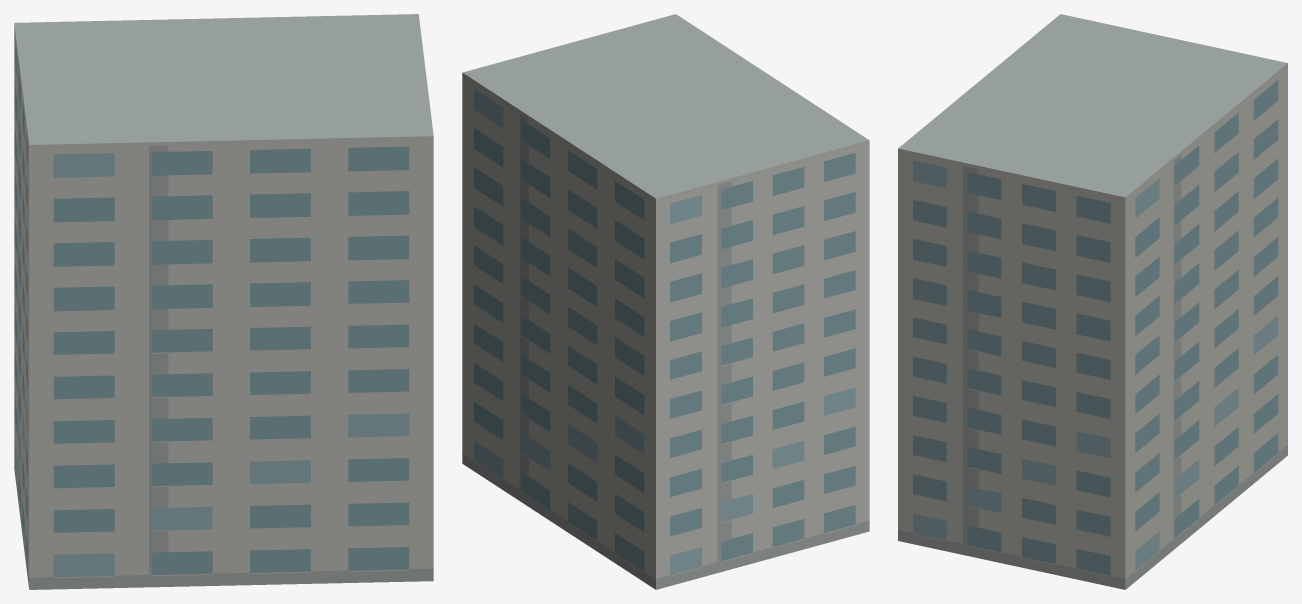
The model's file is residential-d631af2b-134e-4d12-8bc9-8bc850ce7481.glb.
3 views of the same model, side by side, from view 1: azimuth 30°, elevation 25°; view 2: azimuth 150°, elevation 25°; view 3: azimuth 270°, elevation 25° (orthographic). The views are drawn at different scales.
Parts seen in each view (by area): view 1: residential-d631af2b-134e-4d12-8bc9-8bc850ce7481.tmp; view 2: residential-d631af2b-134e-4d12-8bc9-8bc850ce7481.tmp; view 3: residential-d631af2b-134e-4d12-8bc9-8bc850ce7481.tmp.
Part boxes in pixels (x1=…): residential-d631af2b-134e-4d12-8bc9-8bc850ce7481.tmp: x1=14, y1=14, x2=433, y2=589; residential-d631af2b-134e-4d12-8bc9-8bc850ce7481.tmp: x1=462, y1=14, x2=869, y2=589; residential-d631af2b-134e-4d12-8bc9-8bc850ce7481.tmp: x1=898, y1=14, x2=1287, y2=589.
Bounding box in the file's own units: 30.09 × 30 × 27.02.
